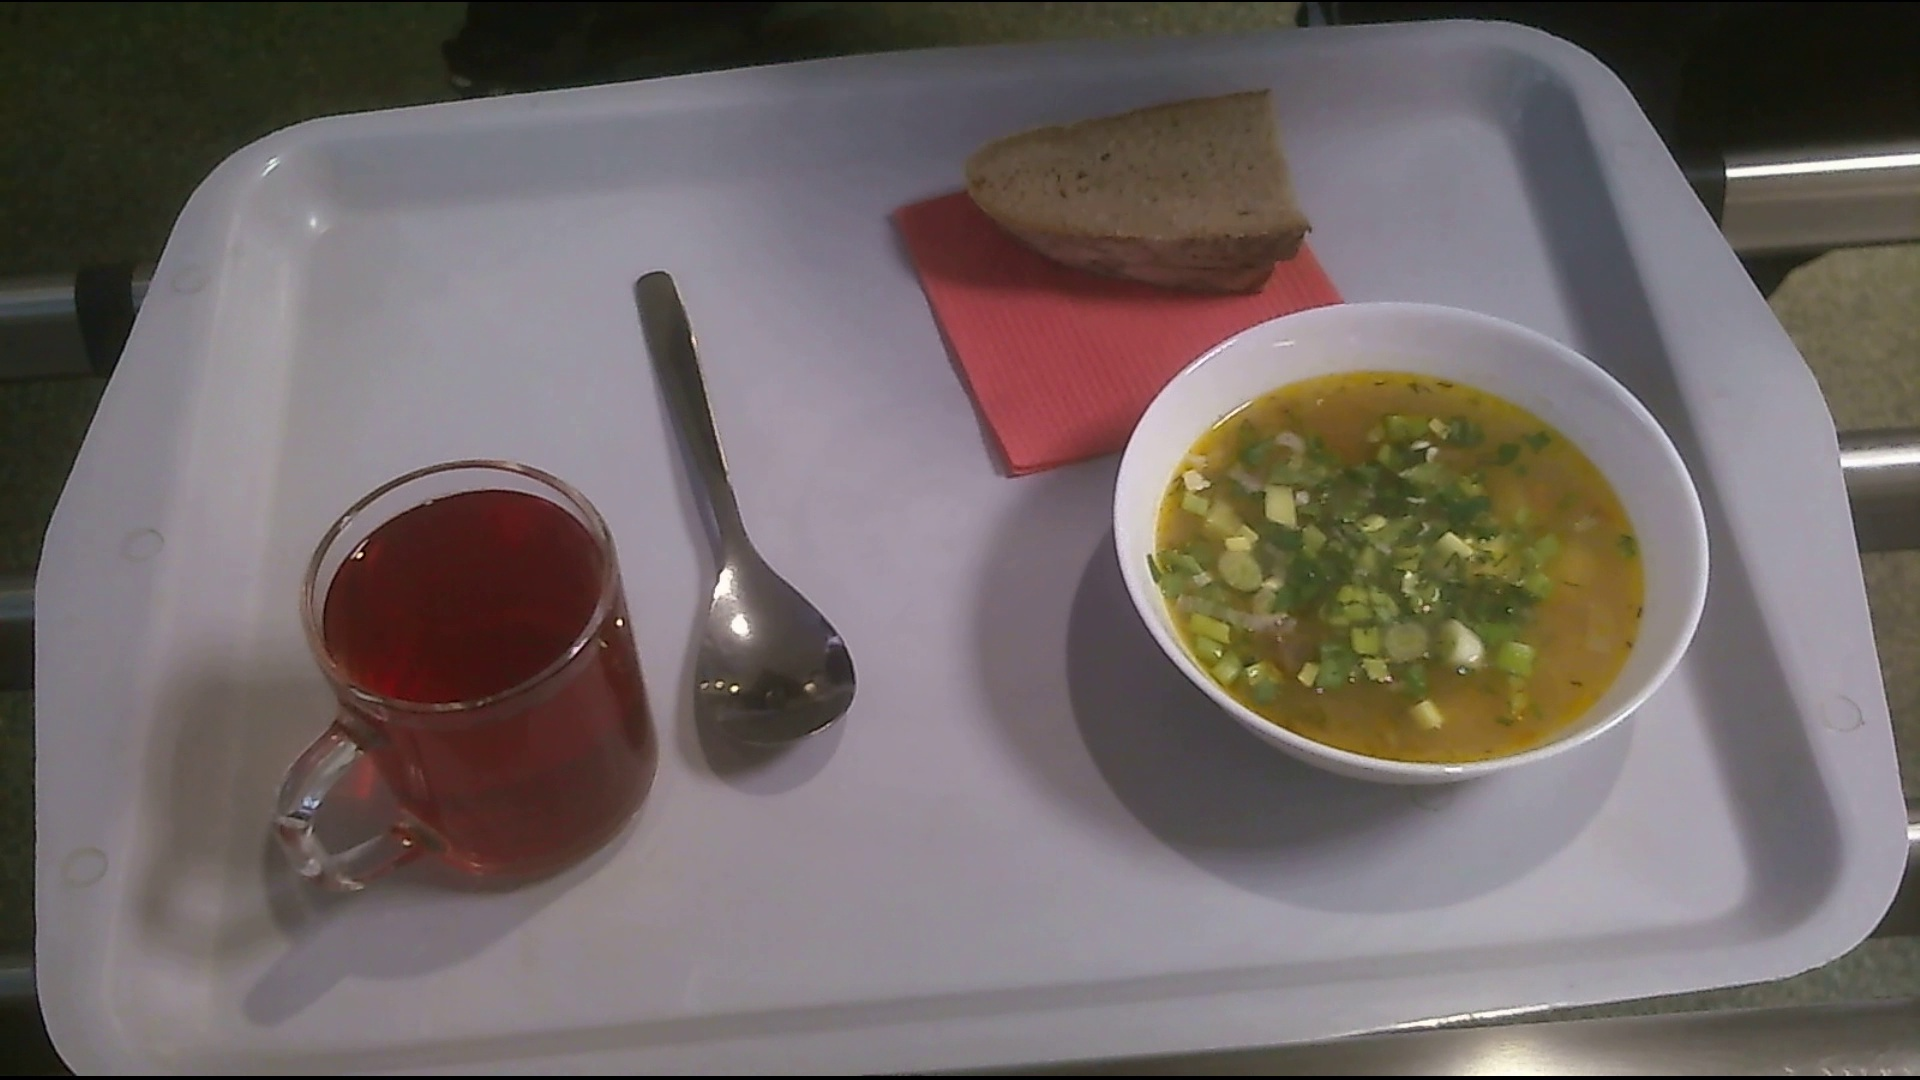bowl: (1110, 305, 1710, 789)
cutlery: (628, 265, 858, 762)
drink: (278, 450, 665, 932)
other: (955, 95, 1299, 291)
